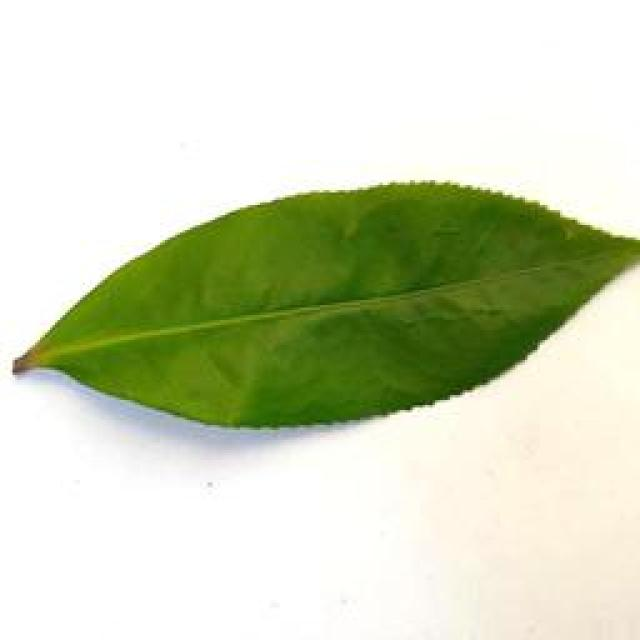Healthy: (6, 170, 640, 448)
